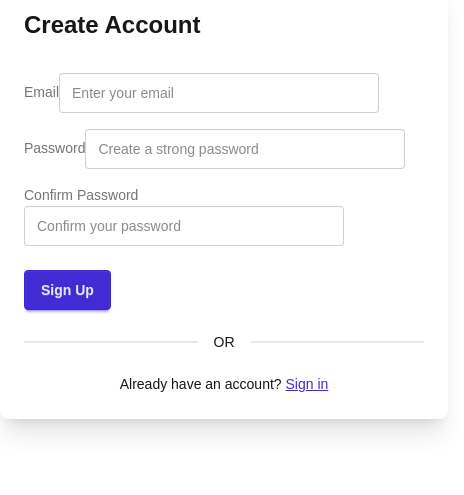
Test: SignUpForm › Form Validation › shows error for password without uppercase letter
The width and height of the screenshot is (464, 495).
Type "test@example.com" into the field with placeholder "Enter your email".
click(219, 93); type("test@example.com")  # box [59, 73, 379, 113]
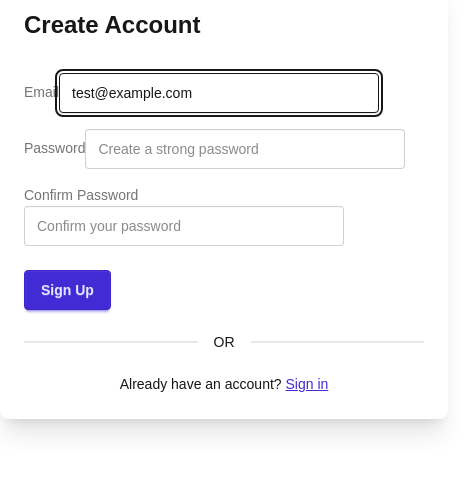
Type "password123" into the password field with placeholder "Create a strong password".
click(246, 149); type("password123")  # box [86, 129, 406, 169]
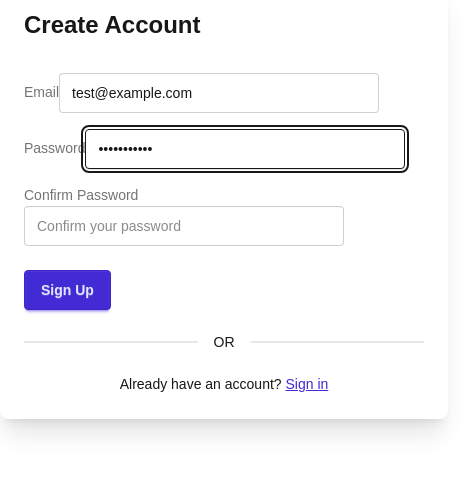
Click the button "Sign Up".
click(67, 290)  # box [24, 270, 111, 310]
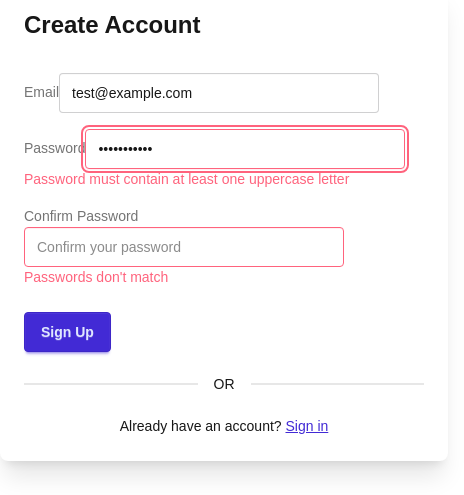
Result: the text "Password must contain at least one uppercase letter" is shown at [24, 169, 349, 190]
